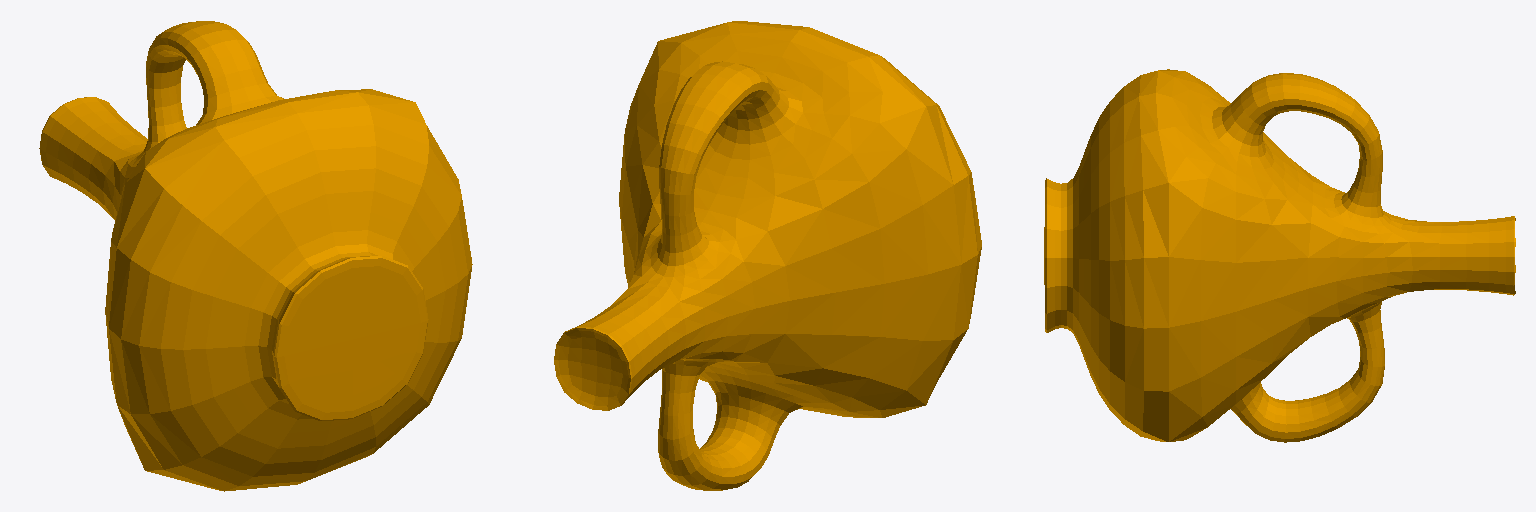
The robot description file, URDF, robot "7":
<?xml version="1.0" ?>
<robot name="7">
  <link name="body">
    <visual>
      <geometry>
        <mesh filename="../shapes/7.obj"/>
      </geometry>
    </visual>
    <collision>
      <geometry>
        <mesh filename="../shapes/7.obj"/>
      </geometry>
    </collision>
  </link>
</robot>

--- Facts derived from the render (not from the file) ---
Views: 3 orthographic renders of the robot side by side, from view 1: azimuth 30°, elevation 25°; view 2: azimuth 150°, elevation 25°; view 3: azimuth 270°, elevation 25°.
Model 7 with 1 links and 0 joints (none), rooted at body, posed every joint at zero.
Links seen in each view (by area): view 1: body; view 2: body; view 3: body.
Link boxes in pixels (<box>): body: <box>39,21,472,491</box>; body: <box>554,21,981,490</box>; body: <box>1044,69,1515,442</box>.
Size in the robot's own frame: 5.78 by 7.91 by 6.64 metres.
1 mesh visuals loaded from 1 distinct referenced files (1 OBJ).